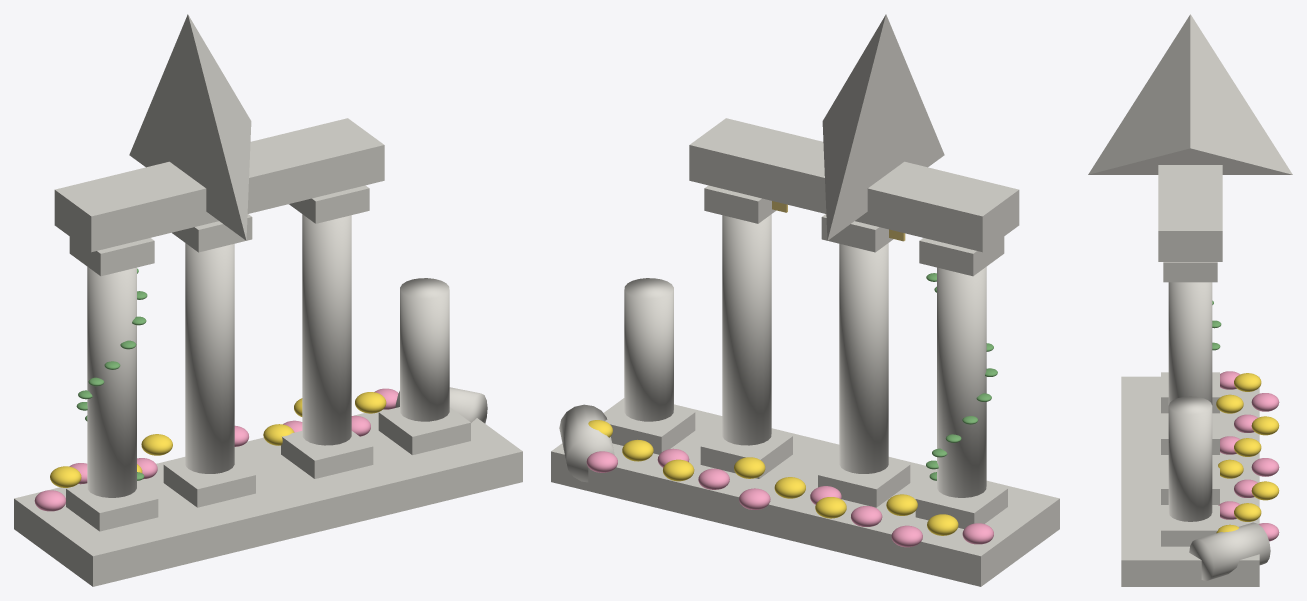
The model's file is ruin_grand_colonnade.glb.
The picture shows the model from 3 angles, left to right: view 1: azimuth 30°, elevation 25°; view 2: azimuth 150°, elevation 25°; view 3: azimuth 270°, elevation 25°; orthographic projection. The views are drawn at different scales.
Parts seen in each view (by area): view 1: Cube, Cube.008, Cone, Cylinder.002, Cylinder.001, Cylinder, Cylinder.003, Cube.007, Cube.001, Cube.003, Cube.005, Cube.002 (+3 smaller); view 2: Cube, Cube.008, Cone, Cylinder.002, Cylinder.001, Cylinder, Cylinder.003, Cube.003, Cylinder.004, Cube.001, Cube.007, Cube.005 (+3 smaller); view 3: Cone, Cube, Cube.008, Cylinder.003, Cylinder.002, Cylinder.004, Cube.007, Cube.006, Cube.003, Cube.005, Cube.001, Sphere.003 (+13 smaller).
Part boxes in pixels (left/top/right/bottom): Cube: left=14, top=409, right=522, bottom=586; Cube.008: left=54, top=118, right=384, bottom=252; Cone: left=129, top=14, right=251, bottom=240; Cylinder.002: left=302, top=214, right=351, bottom=445; Cylinder.001: left=185, top=243, right=234, bottom=473; Cylinder: left=87, top=267, right=136, bottom=497; Cylinder.003: left=400, top=278, right=449, bottom=421; Cube.007: left=378, top=407, right=470, bottom=455; Cube.001: left=66, top=483, right=158, bottom=531; Cube.003: left=163, top=459, right=255, bottom=507; Cube.005: left=281, top=431, right=373, bottom=478; Cube.002: left=69, top=237, right=154, bottom=276; Cube: left=551, top=398, right=1059, bottom=586; Cube.008: left=689, top=118, right=1019, bottom=252; Cone: left=822, top=14, right=944, bottom=240; Cylinder.002: left=722, top=214, right=771, bottom=445; Cylinder.001: left=839, top=243, right=888, bottom=473; Cylinder: left=937, top=267, right=986, bottom=497; Cylinder.003: left=624, top=278, right=673, bottom=421; Cube.003: left=818, top=459, right=910, bottom=507; Cylinder.004: left=559, top=404, right=614, bottom=482; Cube.001: left=915, top=483, right=1007, bottom=528; Cube.007: left=605, top=407, right=695, bottom=454; Cube.005: left=700, top=431, right=792, bottom=478; Cone: left=1088, top=14, right=1292, bottom=174; Cube: left=1121, top=376, right=1259, bottom=586; Cube.008: left=1158, top=165, right=1222, bottom=261; Cylinder.003: left=1168, top=396, right=1212, bottom=521; Cylinder.002: left=1168, top=282, right=1212, bottom=404; Cylinder.004: left=1189, top=522, right=1270, bottom=581; Cube.007: left=1161, top=505, right=1219, bottom=546; Cube.006: left=1163, top=262, right=1217, bottom=282; Cube.003: left=1161, top=414, right=1219, bottom=454; Cube.005: left=1161, top=464, right=1219, bottom=504; Cube.001: left=1161, top=372, right=1219, bottom=413; Sphere.003: left=1216, top=394, right=1243, bottom=413.
Bounding box in the file's own units: 4.58 × 5 × 2.08.
